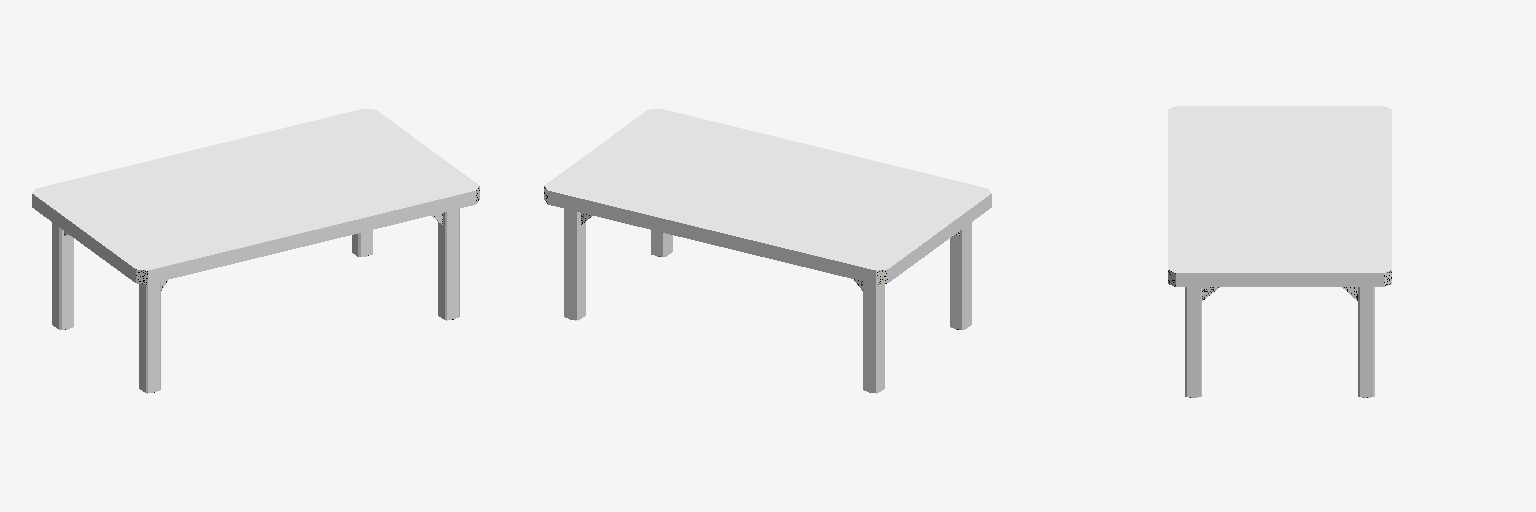
3 views of the same model, side by side, from view 1: azimuth 30°, elevation 25°; view 2: azimuth 150°, elevation 25°; view 3: azimuth 270°, elevation 25° (orthographic).
Parts seen in each view (by area): view 1: mesh1_mesh1-geometry; view 2: mesh1_mesh1-geometry; view 3: mesh1_mesh1-geometry.
Part boxes in pixels (left/top/right/bottom): mesh1_mesh1-geometry: left=32, top=108, right=479, bottom=393; mesh1_mesh1-geometry: left=544, top=108, right=991, bottom=393; mesh1_mesh1-geometry: left=1168, top=106, right=1391, bottom=397.
Size of the model in its own units: 0.8287 by 0.3063 by 0.4684.
15 materials, 3 textured.